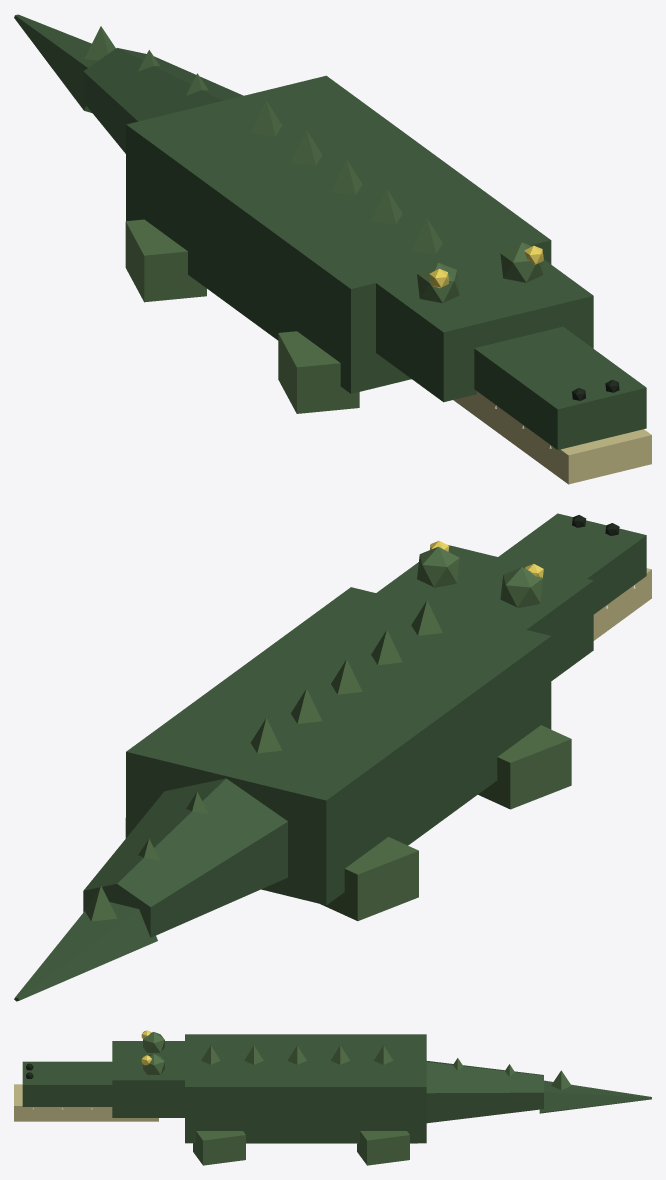
Rendered from jacare.glb.
3 views of the same model, one above another, from view 1: azimuth 30°, elevation 25°; view 2: azimuth 150°, elevation 25°; view 3: azimuth 270°, elevation 25° (orthographic). The views are drawn at different scales.
Parts seen in each view (by area): view 1: corpo, cranio, focinho, cauda_1, mandibula, pata_fr, pata_br, cauda_2, olho_l, olho_r; view 2: corpo, cauda_1, cranio, focinho, cauda_2, pata_fr, pata_br, mandibula, olho_l, olho_r; view 3: corpo, cauda_1, cranio, focinho, cauda_2, mandibula, pata_fl, pata_bl, olho_r, olho_l, escama_cauda_2.
Boxes of the visible parts, <box> form: corpo: <box>126,75,551,393</box>; cranio: <box>373,247,593,402</box>; focinho: <box>474,326,646,449</box>; cauda_1: <box>83,48,243,153</box>; mandibula: <box>453,391,651,484</box>; pata_fr: <box>278,331,359,413</box>; pata_br: <box>125,219,206,302</box>; cauda_2: <box>14,14,97,113</box>; olho_l: <box>500,242,543,282</box>; olho_r: <box>417,262,459,303</box>; corpo: <box>126,587,551,905</box>; cauda_1: <box>83,778,287,937</box>; cranio: <box>376,545,593,680</box>; focinho: <box>498,513,646,614</box>; cauda_2: <box>14,902,157,1001</box>; pata_fr: <box>478,725,571,809</box>; pata_br: <box>320,837,418,920</box>; mandibula: <box>593,568,651,640</box>; olho_l: <box>417,546,459,587</box>; olho_r: <box>500,567,543,607</box>; corpo: <box>185,1034,426,1143</box>; cauda_1: <box>426,1061,543,1123</box>; cranio: <box>112,1041,184,1117</box>; focinho: <box>22,1061,112,1106</box>; cauda_2: <box>539,1080,651,1113</box>; mandibula: <box>14,1084,158,1121</box>; pata_fl: <box>193,1131,245,1165</box>; pata_bl: <box>357,1131,409,1165</box>; olho_r: <box>143,1032,164,1052</box>; olho_l: <box>143,1054,164,1074</box>; escama_cauda_2: <box>551,1070,571,1089</box>.
Bounding box in the file's own units: 0.9879 × 0.555 × 3.7.
